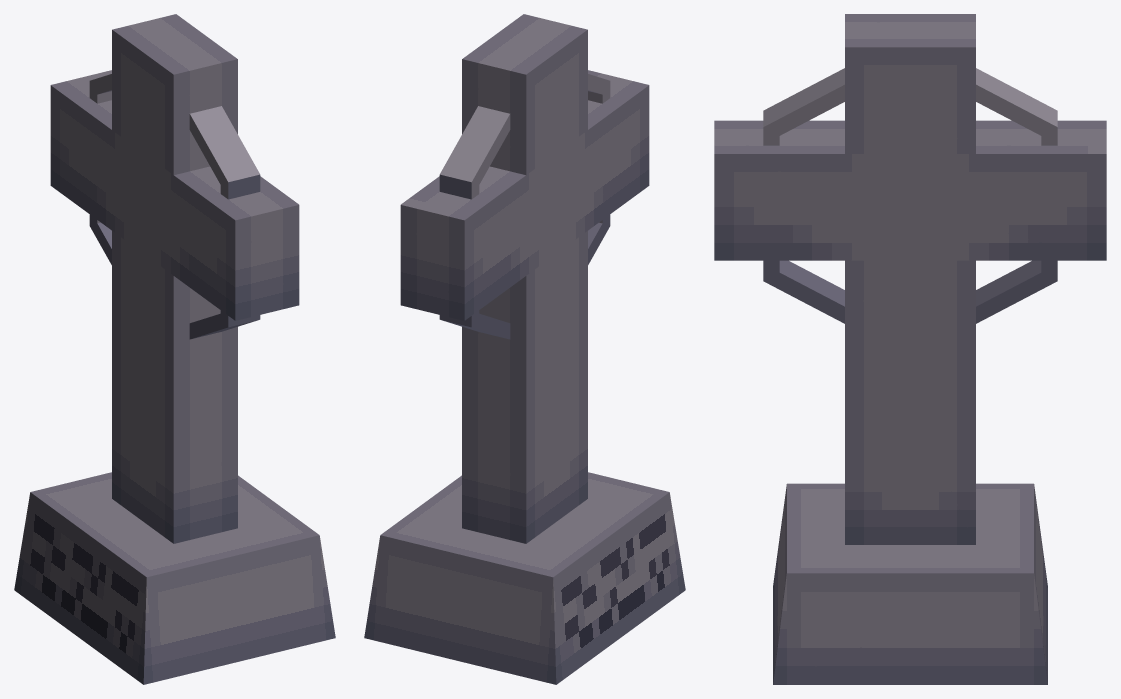
The model's file is grave_cross_circle.obj.
3 renders of one model, left to right at view 1: azimuth 30°, elevation 25°; view 2: azimuth 150°, elevation 25°; view 3: azimuth 270°, elevation 25°, orthographic. The views are drawn at different scales.
Parts seen in each view (by area): view 1: cross, base, circle; view 2: cross, base, circle; view 3: cross, base, circle.
Part boxes in pixels (x1,y1,x2,y2): cross: (50,14,299,543); base: (14,472,335,684); circle: (89,74,260,339); cross: (400,14,649,543); base: (364,472,685,684); circle: (439,74,610,339); cross: (714,14,1106,544); base: (773,483,1047,684); circle: (763,68,1057,323).
Bounding box in the file's own units: 0.75 × 2.12 × 1.25.
Materials: 3 (3 with a texture image).
